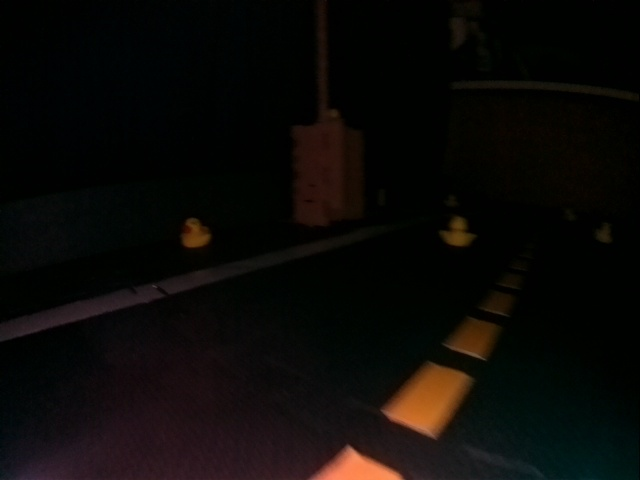Duckie: (442, 218, 475, 246), (182, 219, 211, 247)
